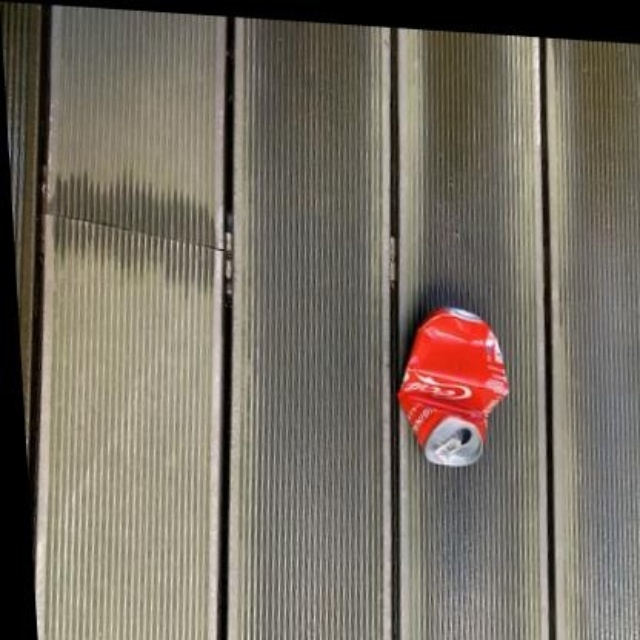trash: (398, 308, 508, 465)
